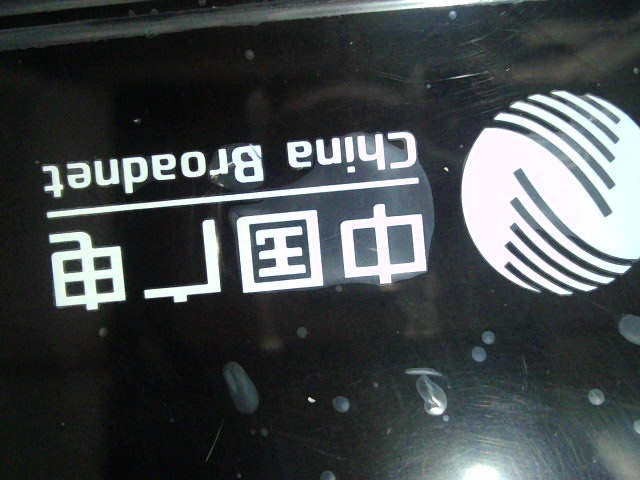AW_ChinaBroadNet: (16, 83, 638, 328)
